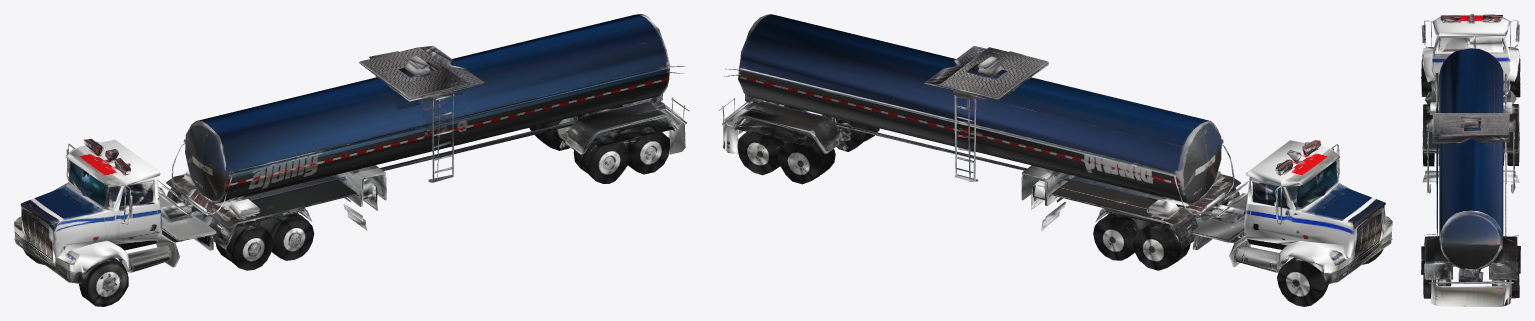
The model's file is milk-truck.glb.
3 renders of one model, left to right at view 1: azimuth 30°, elevation 25°; view 2: azimuth 150°, elevation 25°; view 3: azimuth 270°, elevation 25°, orthographic. The views are drawn at different scales.
Visible parts, largest first — view 1: Mesh_0.002; view 2: Mesh_0.002; view 3: Mesh_0.002.
Part boxes in pixels (left/top/right/bottom): Mesh_0.002: left=14, top=14, right=689, bottom=306; Mesh_0.002: left=719, top=14, right=1392, bottom=306; Mesh_0.002: left=1421, top=14, right=1520, bottom=306.
Bounding box in the file's own units: 14.22 × 3 × 2.57.
1 material, 1 textured.
